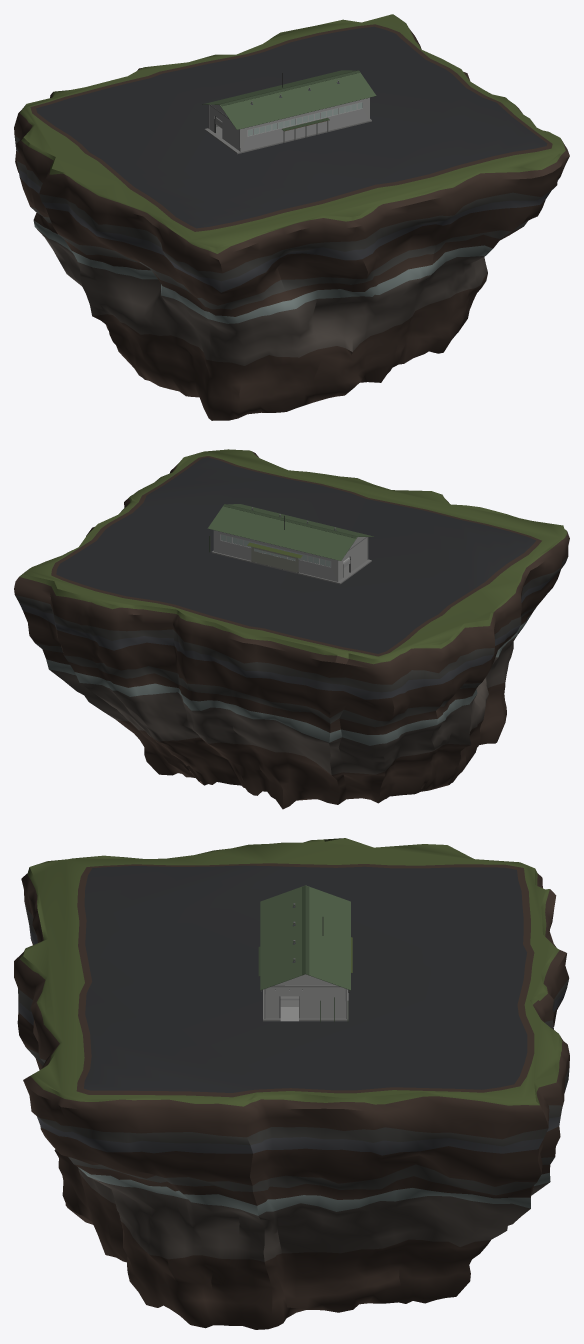
File: industrial.glb
3 renders of one model, top to bottom at view 1: azimuth 30°, elevation 25°; view 2: azimuth 150°, elevation 25°; view 3: azimuth 270°, elevation 25°, orthographic. The views are drawn at different scales.
Visible parts, largest first — view 1: Island_mesh, Warehouse_mesh; view 2: Island_mesh, Warehouse_mesh, CanopyDouble_mesh; view 3: Island_mesh, Warehouse_mesh.
Boxes of the visible parts, x1,y1,x2,y2 form: Island_mesh: (14, 14, 569, 420); Warehouse_mesh: (202, 70, 376, 154); Island_mesh: (14, 449, 569, 809); Warehouse_mesh: (207, 504, 373, 584); CanopyDouble_mesh: (247, 542, 302, 572); Island_mesh: (14, 838, 569, 1329); Warehouse_mesh: (260, 885, 350, 1022).
Size of the model in its own units: 166 by 97.05 by 143.
Materials: 7 (6 with a texture image).
